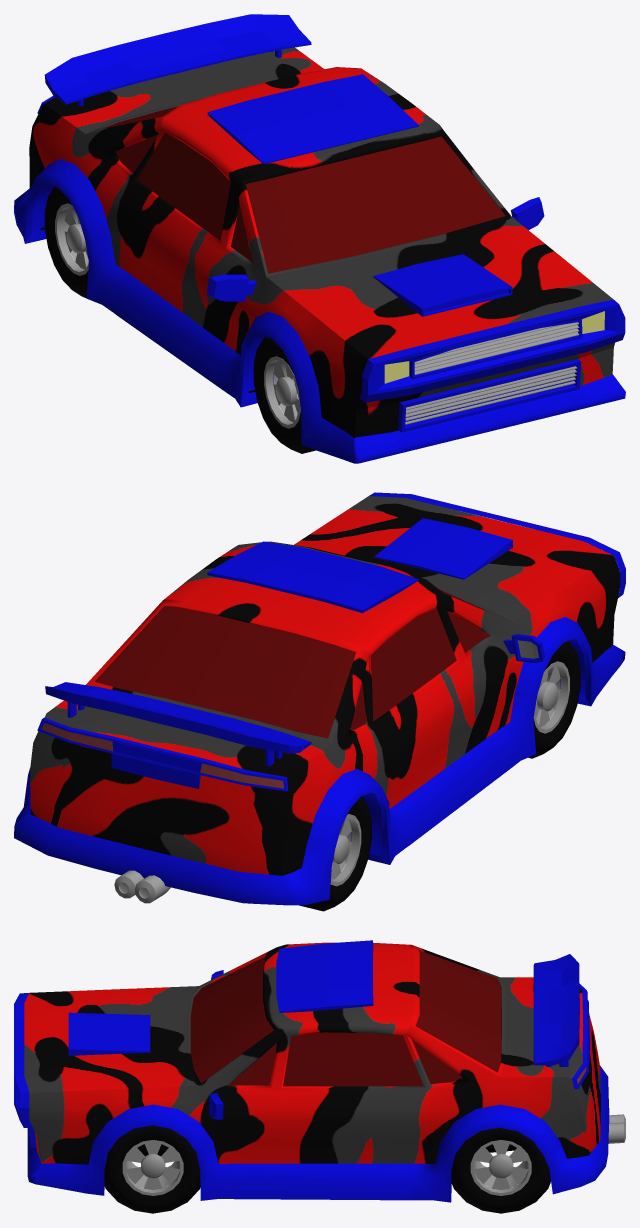
The model's file is Muscle Evolution3 Blue ArmyBlackRed DarkRed LightGrey.glb.
3 renders of one model, top to bottom at view 1: azimuth 30°, elevation 25°; view 2: azimuth 150°, elevation 25°; view 3: azimuth 270°, elevation 25°, orthographic. The views are drawn at different scales.
Visible parts, largest first — view 1: evo3_body1_f1_dupl, evo3_sill3_f1_dupl, evo3_frontGlass_f1_dupl, evo3_rooftop3_f1_dupl, evo3_spoiler3_f1_dupl, evo3_frontBlockGrid3_f1_dupl, evo3_glasseBigR_f1_dupl, evo3_airtrap_front4_f1_dupl, evo3_blockgrid3_f1_dupl, evo3_gridfrontbot3_f1_dupl, evo3_gridfrontup3_f1_dupl, evo3_tire_rf1_f1_dupl (+6 smaller); view 2: evo3_body1_f1_dupl, evo3_sill3_f1_dupl, evo3_BackGlassGlass_f1_dupl, evo3_rooftop3_f1_dupl, evo3_spoiler3_f1_dupl, evo3_glasseBigR_f1_dupl, evo3_airtrap_front4_f1_dupl, evo3_blockbacklight_f1_dupl, evo3_rim_A_rf_f1_dupl, evo3_tire_rf1_f1_dupl, evo3_tire_rf_f1_dupl, evo3_frontBlockGrid3_f1_dupl (+6 smaller); view 3: evo3_body1_f1_dupl, evo3_sill3_f1_dupl, evo3_BackGlassGlass_f1_dupl, evo3_glasseBigL_f1_dupl, evo3_frontGlass_f1_dupl, evo3_rooftop3_f1_dupl, evo3_spoiler3_f1_dupl, evo3_tire_lf_f1_dupl, evo3_tire_lb_f1_dupl, evo3_airtrap_front4_f1_dupl, evo3_rim_A_lf_f1_dupl, evo3_rim_A_lb_f1_dupl (+5 smaller).
Part boxes in pixels (bbox=[...]): evo3_body1_f1_dupl: bbox=[29, 47, 614, 438]; evo3_sill3_f1_dupl: bbox=[14, 159, 625, 463]; evo3_frontGlass_f1_dupl: bbox=[246, 136, 505, 273]; evo3_rooftop3_f1_dupl: bbox=[207, 74, 419, 164]; evo3_spoiler3_f1_dupl: bbox=[44, 14, 311, 106]; evo3_frontBlockGrid3_f1_dupl: bbox=[360, 299, 625, 402]; evo3_glasseBigR_f1_dupl: bbox=[137, 133, 230, 240]; evo3_airtrap_front4_f1_dupl: bbox=[373, 254, 512, 316]; evo3_blockgrid3_f1_dupl: bbox=[398, 359, 581, 432]; evo3_gridfrontbot3_f1_dupl: bbox=[405, 366, 577, 424]; evo3_gridfrontup3_f1_dupl: bbox=[414, 322, 579, 374]; evo3_tire_rf1_f1_dupl: bbox=[253, 336, 315, 453]; evo3_body1_f1_dupl: bbox=[30, 496, 620, 875]; evo3_sill3_f1_dupl: bbox=[14, 617, 625, 905]; evo3_BackGlassGlass_f1_dupl: bbox=[95, 606, 355, 738]; evo3_rooftop3_f1_dupl: bbox=[207, 541, 418, 613]; evo3_spoiler3_f1_dupl: bbox=[45, 682, 311, 766]; evo3_glasseBigR_f1_dupl: bbox=[371, 608, 456, 721]; evo3_airtrap_front4_f1_dupl: bbox=[374, 518, 512, 579]; evo3_blockbacklight_f1_dupl: bbox=[37, 718, 288, 791]; evo3_rim_A_rf_f1_dupl: bbox=[533, 661, 569, 733]; evo3_tire_rf1_f1_dupl: bbox=[528, 641, 580, 758]; evo3_tire_rf_f1_dupl: bbox=[299, 796, 371, 911]; evo3_frontBlockGrid3_f1_dupl: bbox=[369, 492, 625, 597]; evo3_body1_f1_dupl: bbox=[24, 942, 601, 1164]; evo3_sill3_f1_dupl: bbox=[27, 1065, 609, 1202]; evo3_BackGlassGlass_f1_dupl: bbox=[415, 950, 501, 1072]; evo3_glasseBigL_f1_dupl: bbox=[283, 1032, 423, 1086]; evo3_frontGlass_f1_dupl: bbox=[190, 956, 273, 1083]; evo3_rooftop3_f1_dupl: bbox=[276, 940, 373, 1012]; evo3_spoiler3_f1_dupl: bbox=[533, 954, 579, 1066]; evo3_tire_lf_f1_dupl: bbox=[104, 1125, 200, 1213]; evo3_tire_lb_f1_dupl: bbox=[451, 1127, 550, 1213]; evo3_airtrap_front4_f1_dupl: bbox=[68, 1012, 150, 1055]; evo3_rim_A_lf_f1_dupl: bbox=[122, 1140, 183, 1195]; evo3_rim_A_lb_f1_dupl: bbox=[470, 1140, 531, 1195].
Size of the model in its own units: 177 by 116 by 335.
8 materials, 1 textured.
